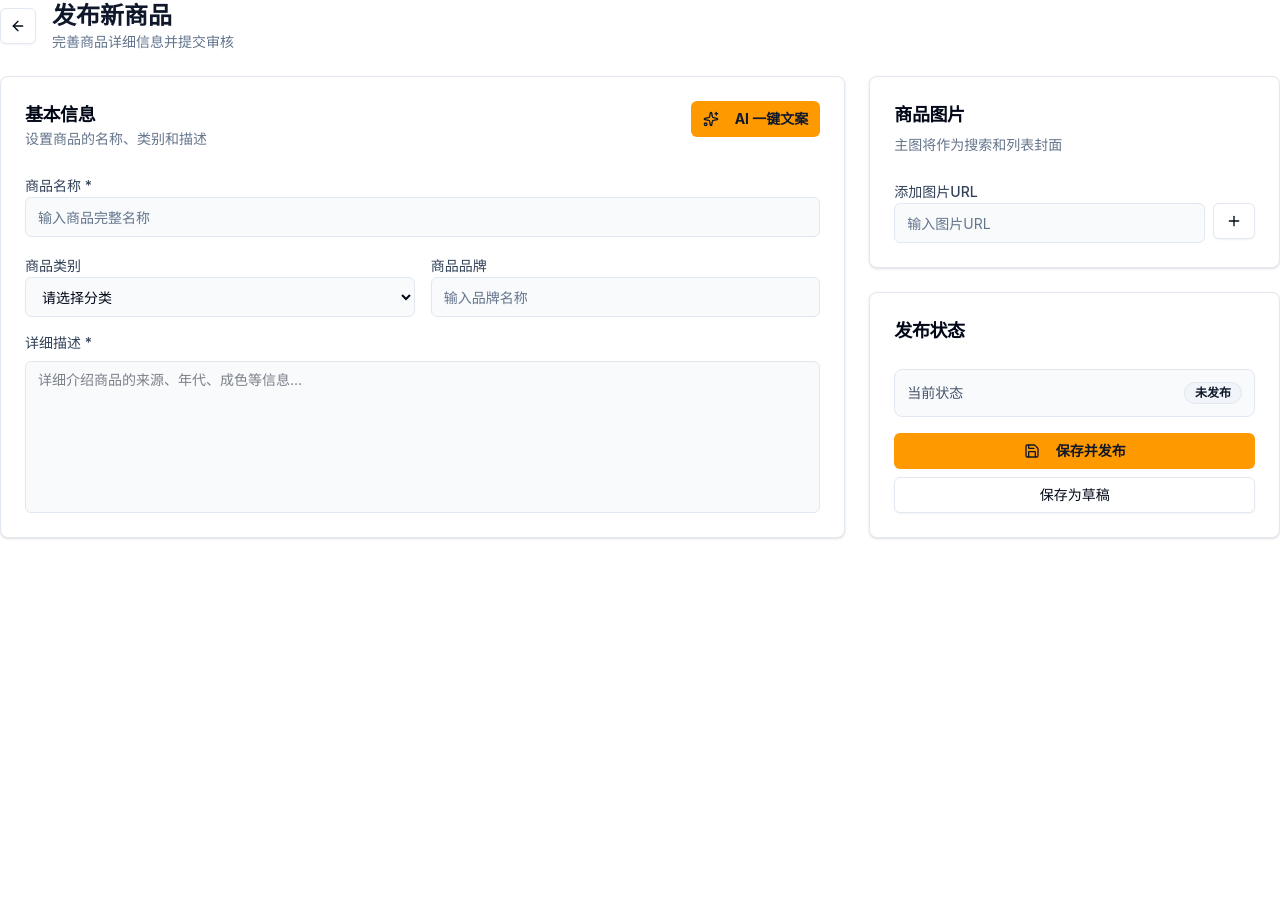
Test: GoodsEdit AI copywriting integration › generates AI copywriting and applies the draft to the form
Type "https://cdn.example.com/camera.jpg" into the field with placeholder "输入图片URL" at (1050, 223), box [894,203,1205,243]
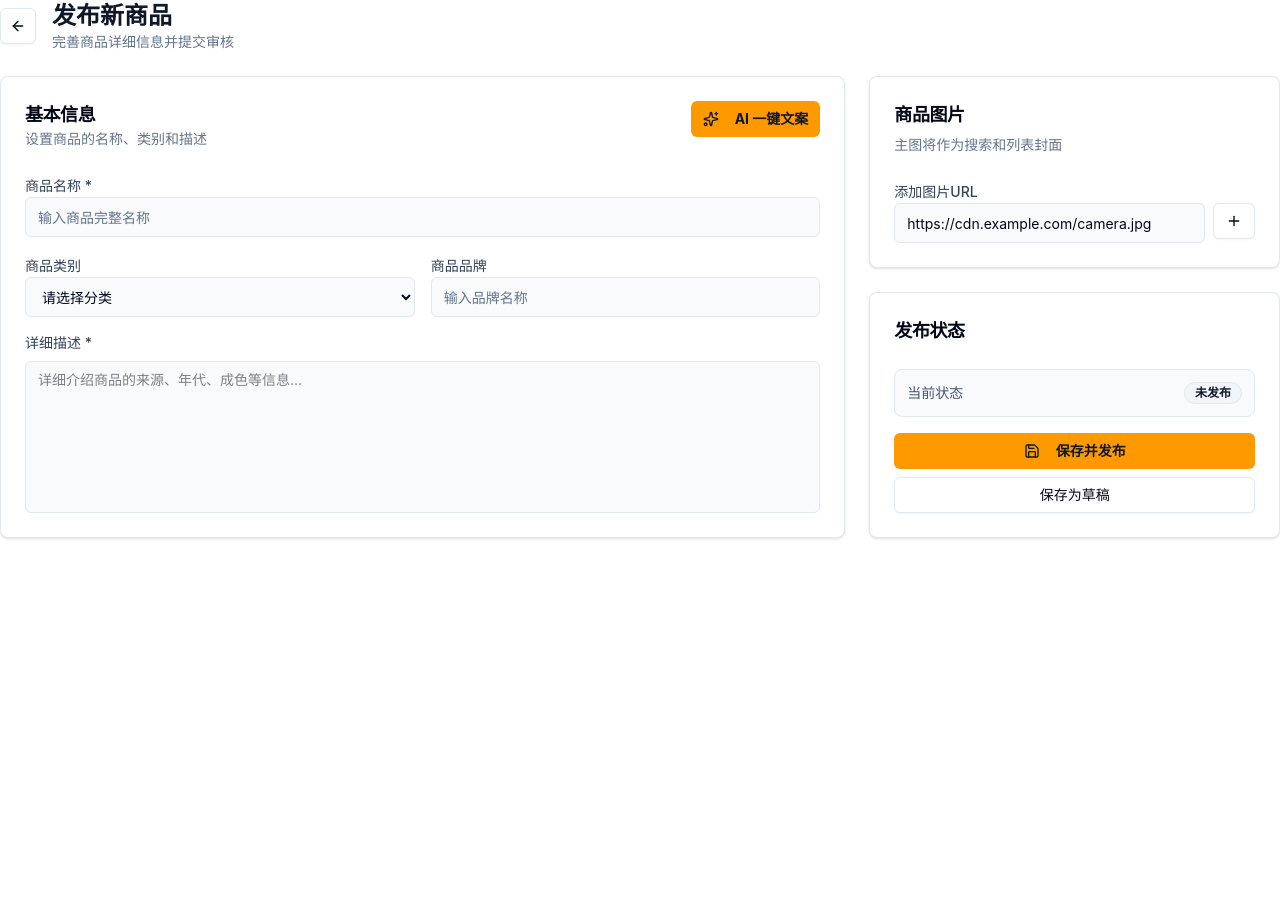
Click the button named "添加图片 URL" at (1234, 221), box [1213,203,1255,239]
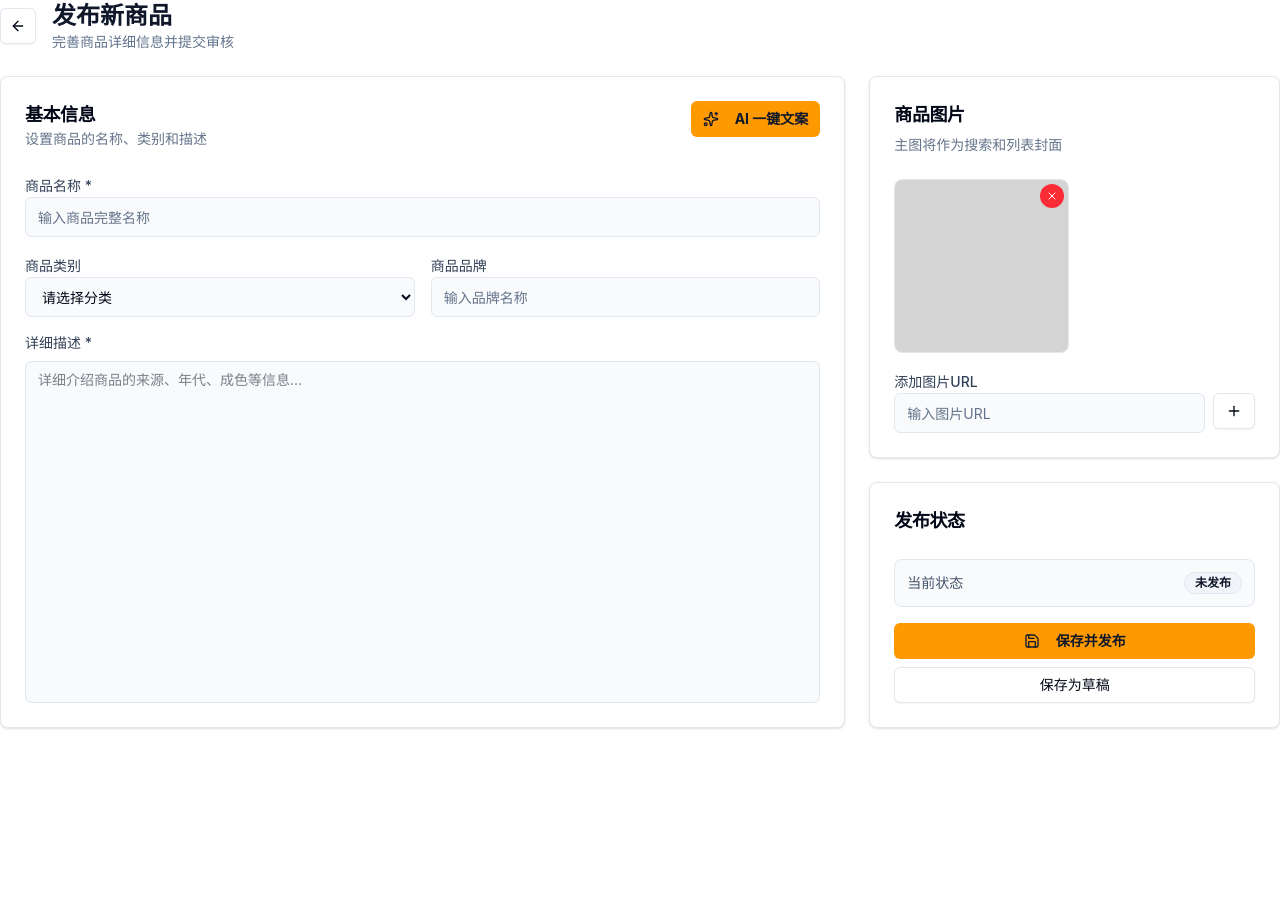
Select "艺术收藏" in the dropdown at (220, 297), box [25,277,415,317]
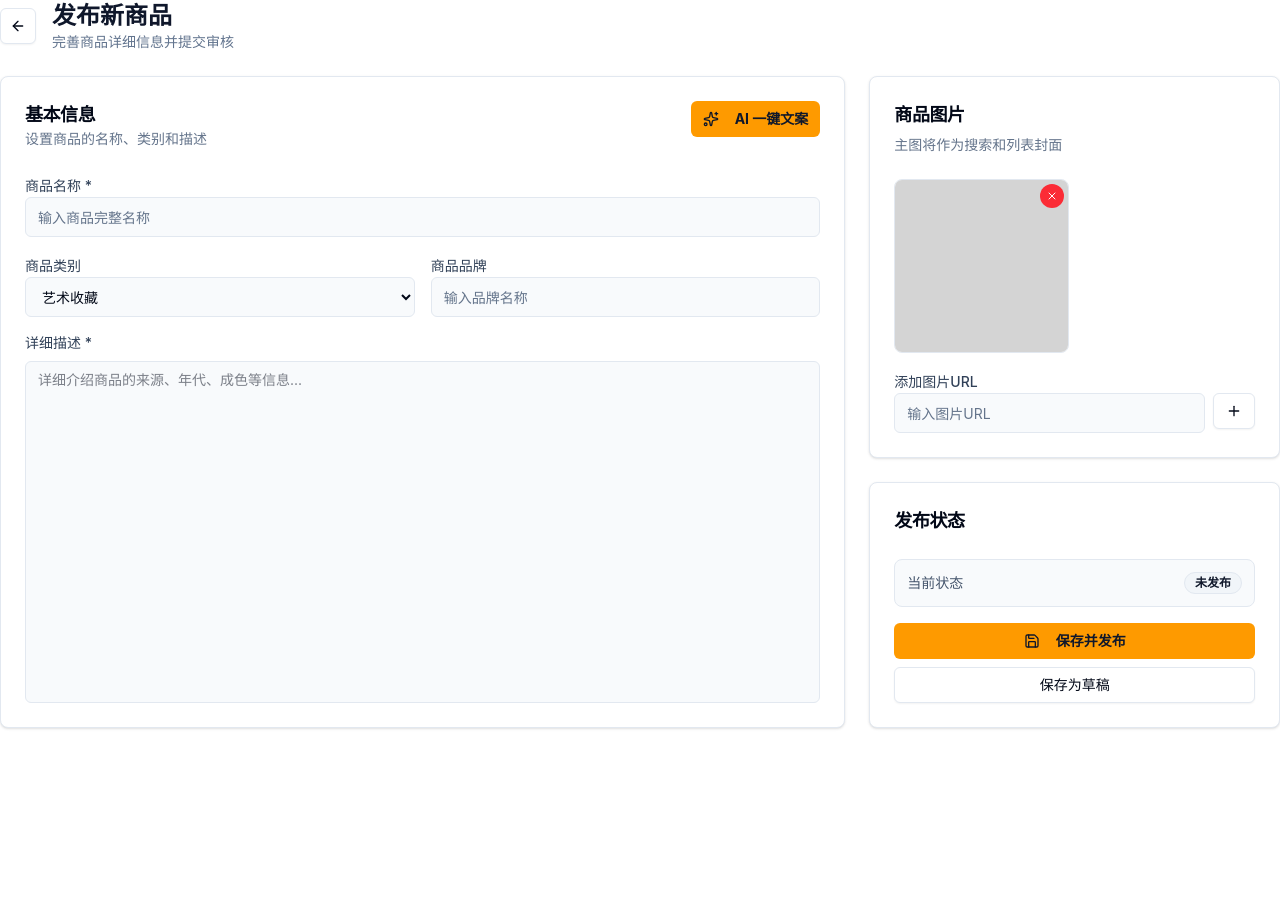
Click the button "AI 一键文案" at (755, 119), box [691,101,820,137]
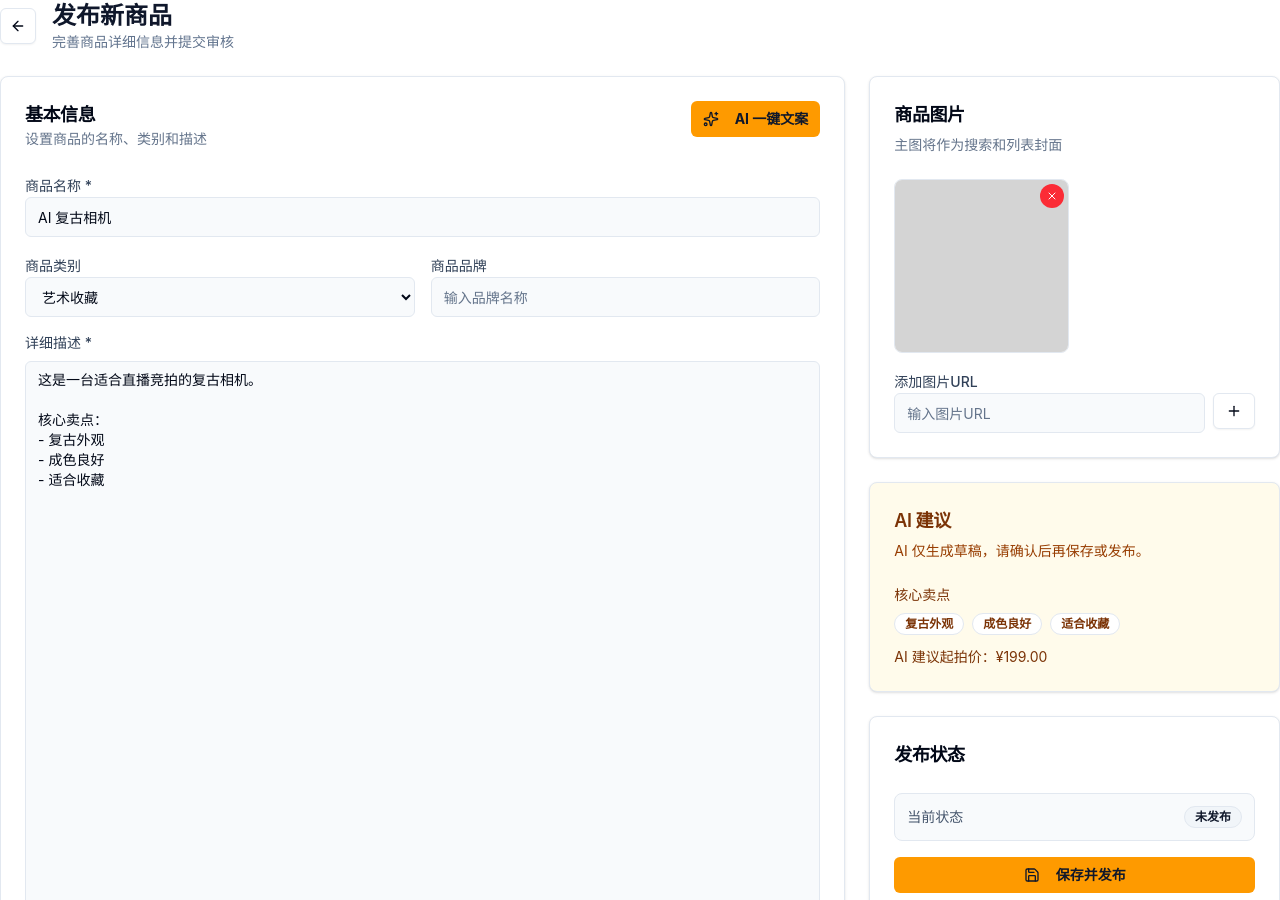
expect the field showing "AI 复古相机" is shown: met, box [25,197,820,237]
expect the text "复古外观" is shown: met, box [894,613,964,635]
expect the text "AI 建议起拍价：¥199.00" is shown: met, box [894,648,1047,665]
